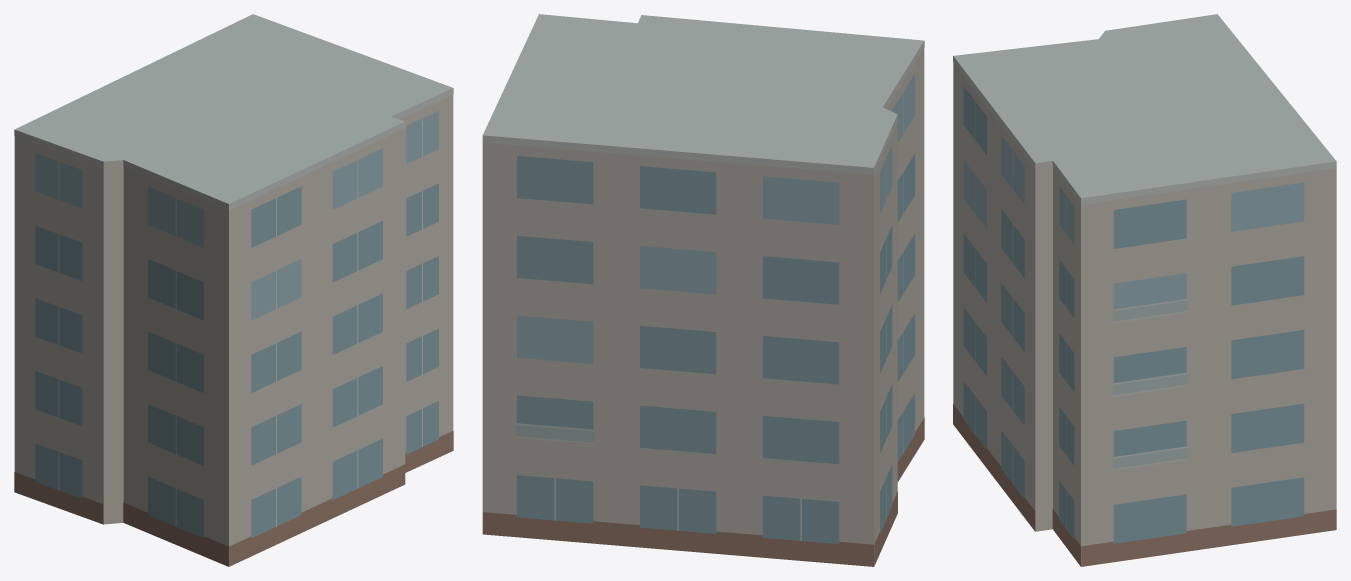
File: survey-upis-32810480.glb
3 renders of one model, left to right at view 1: azimuth 30°, elevation 25°; view 2: azimuth 150°, elevation 25°; view 3: azimuth 270°, elevation 25°, orthographic. The views are drawn at different scales.
Parts seen in each view (by area): view 1: survey-upis-32810480.tmp; view 2: survey-upis-32810480.tmp; view 3: survey-upis-32810480.tmp.
Boxes of the visible parts, bbox=[...] form: survey-upis-32810480.tmp: bbox=[14, 14, 453, 566]; survey-upis-32810480.tmp: bbox=[482, 14, 924, 566]; survey-upis-32810480.tmp: bbox=[953, 14, 1336, 566].
Bounding box in the file's own units: 14.49 × 13.5 × 12.74.
